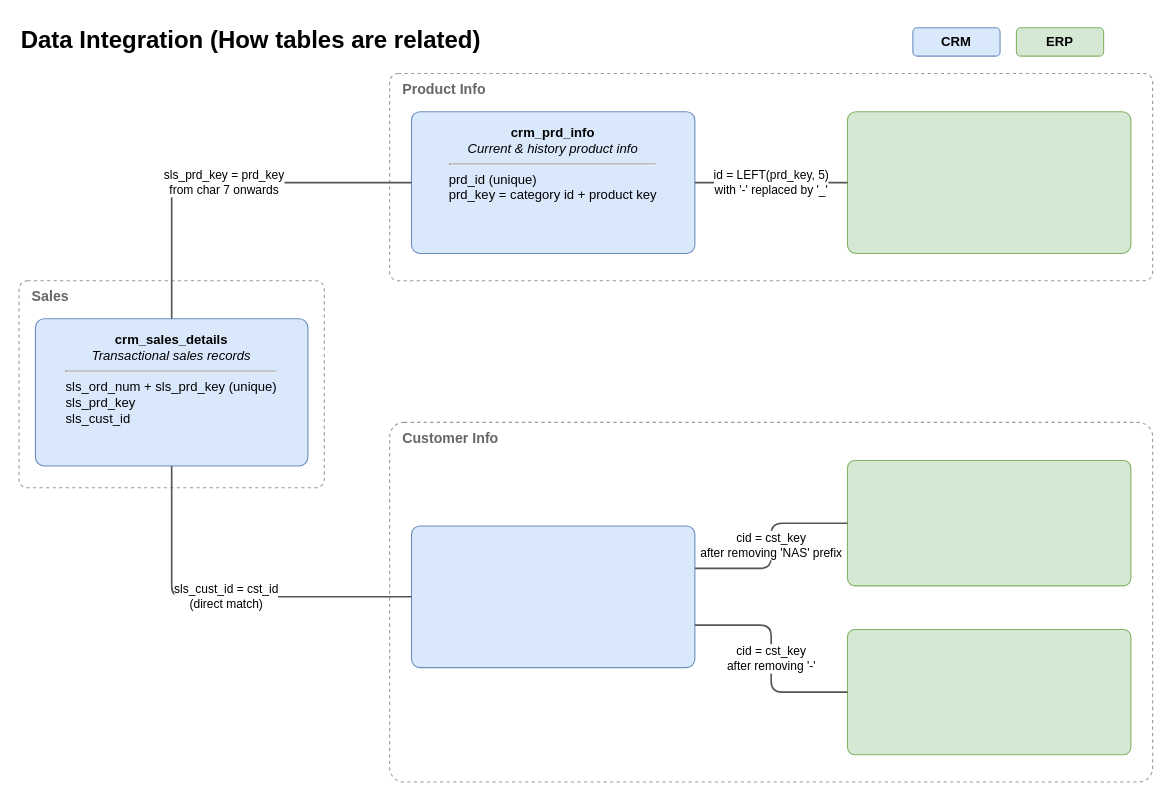
Image size: 1172x801. Some labels were removed from this diagram. The shapes that lost their labels are listed below. From the top down, each one's centre as x and y in pixels, then its label:
At [988,182]: "erp_px_cat_g1v2 Product categories id (e.g. AC_HE) cat, subcat, maintenance".
At [988,522]: "erp_cust_az12 Extra customer info: birthdate, gender cid (e.g. NASAW00011000)".
At [552,596]: "crm_cust_info Customer details cst_id (e.g. 11000) cst_key (e.g. AW00011000)".
At [988,691]: "erp_loc_a101 Customer location: country cid (e.g. AW-00011000)".
